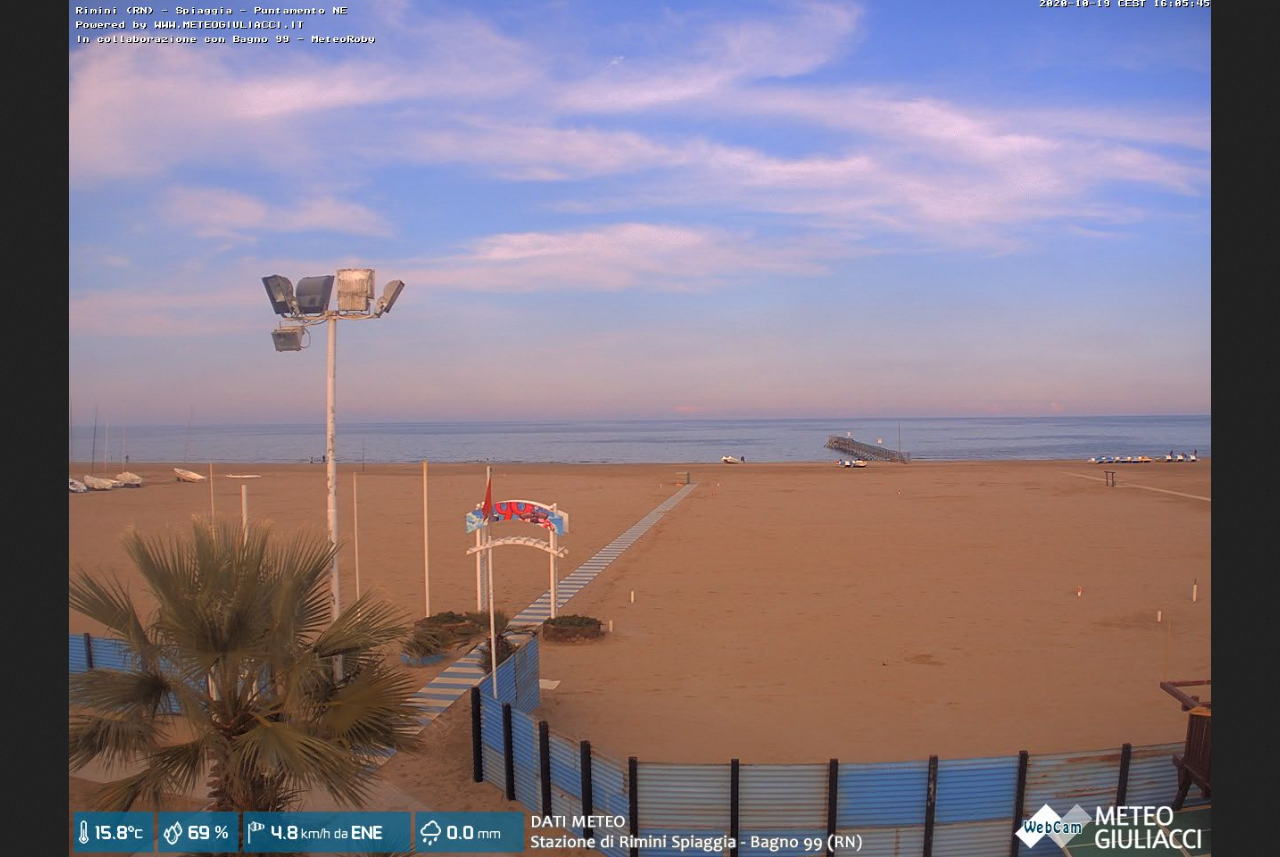no: (480, 476, 494, 523)
